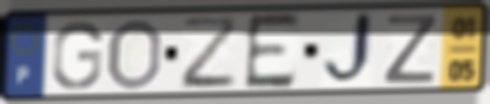E: (242, 10, 303, 93)
G: (49, 19, 105, 91)
J: (320, 9, 376, 91)
O: (104, 17, 165, 93)
Z: (179, 14, 240, 92), (381, 13, 441, 86)
